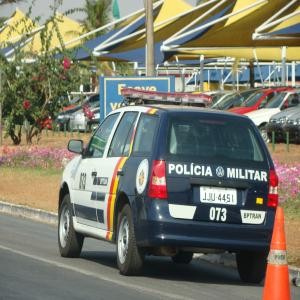Vehicle-registration-plate: (201, 188, 237, 204)
